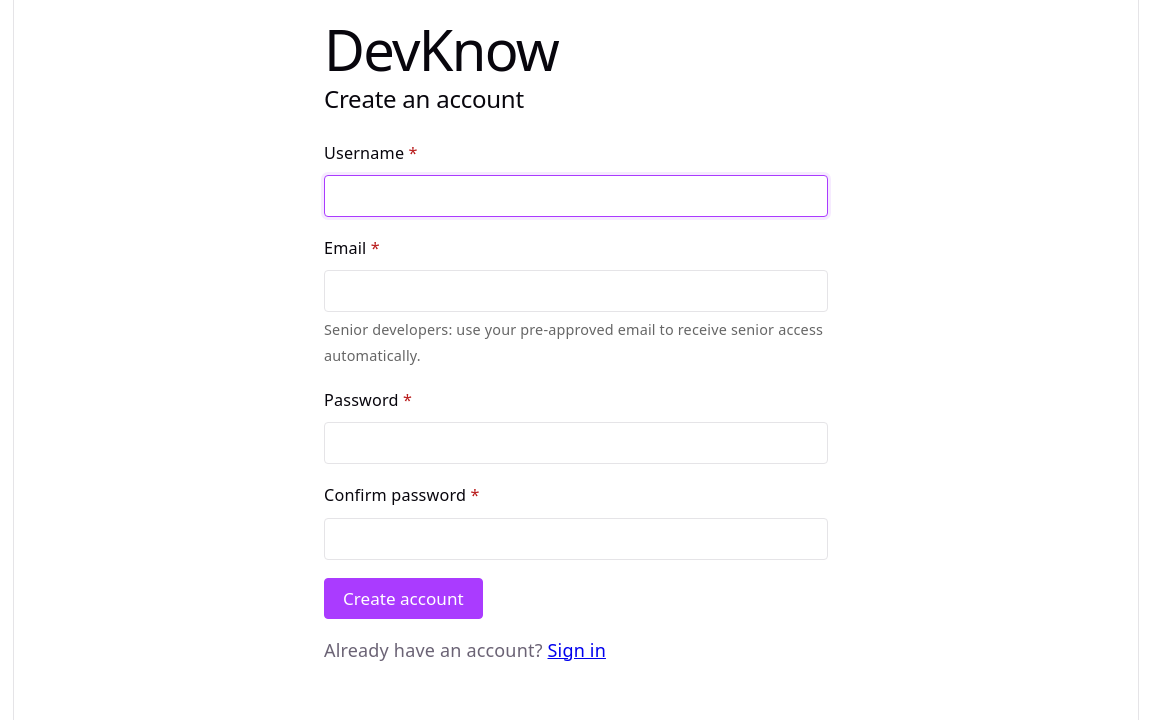
Test: RegisterPage › shows a generic error when the API fails without field errors
The width and height of the screenshot is (1152, 720).
Type "newuser" into the field labelled "Username". click: (576, 196)
box: top-left (324, 175), bottom-right (828, 217)
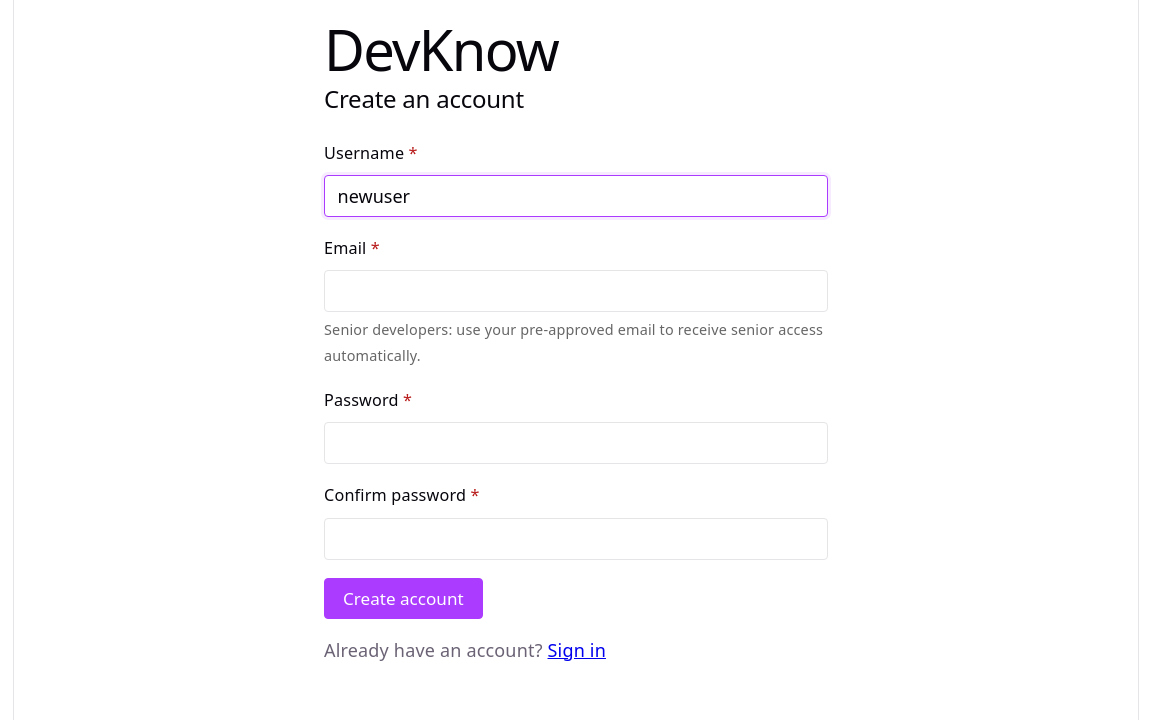
Type "new@example.com" into the field labelled "Email". click: (576, 291)
box: top-left (324, 270), bottom-right (828, 312)
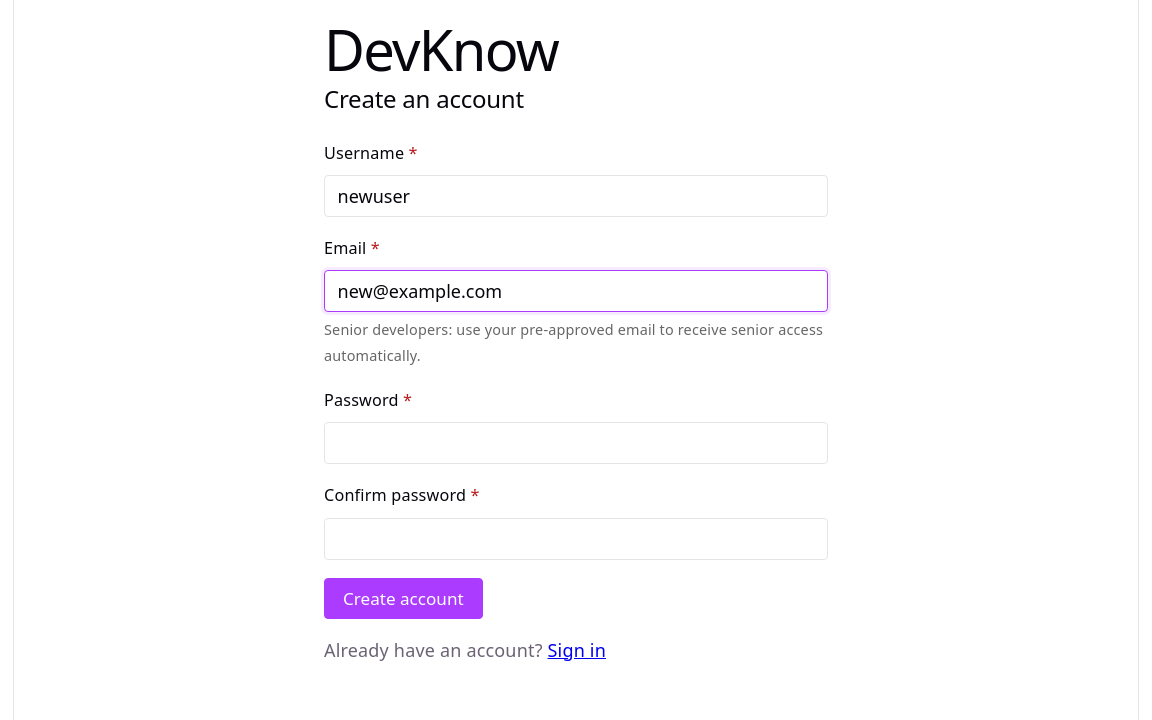
Type "securepass1" into the password field labelled "Password". click: (576, 443)
box: top-left (324, 422), bottom-right (828, 464)
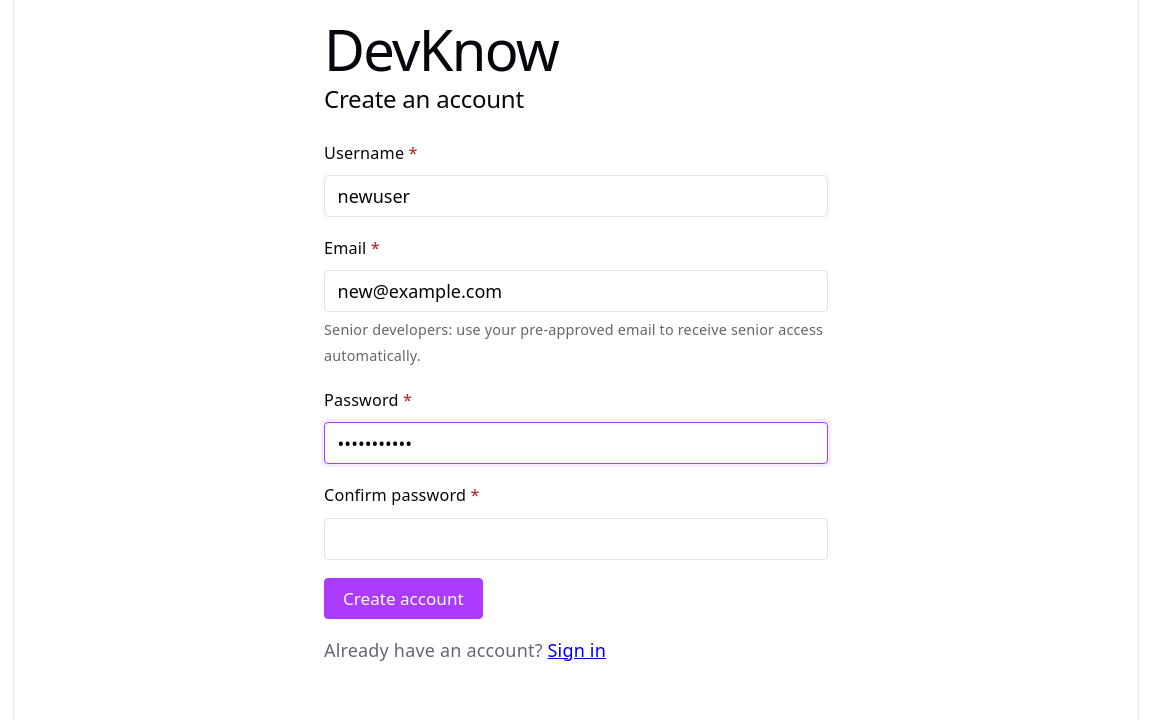
Type "securepass1" into the password field labelled "Confirm password". click: (576, 539)
box: top-left (324, 518), bottom-right (828, 560)
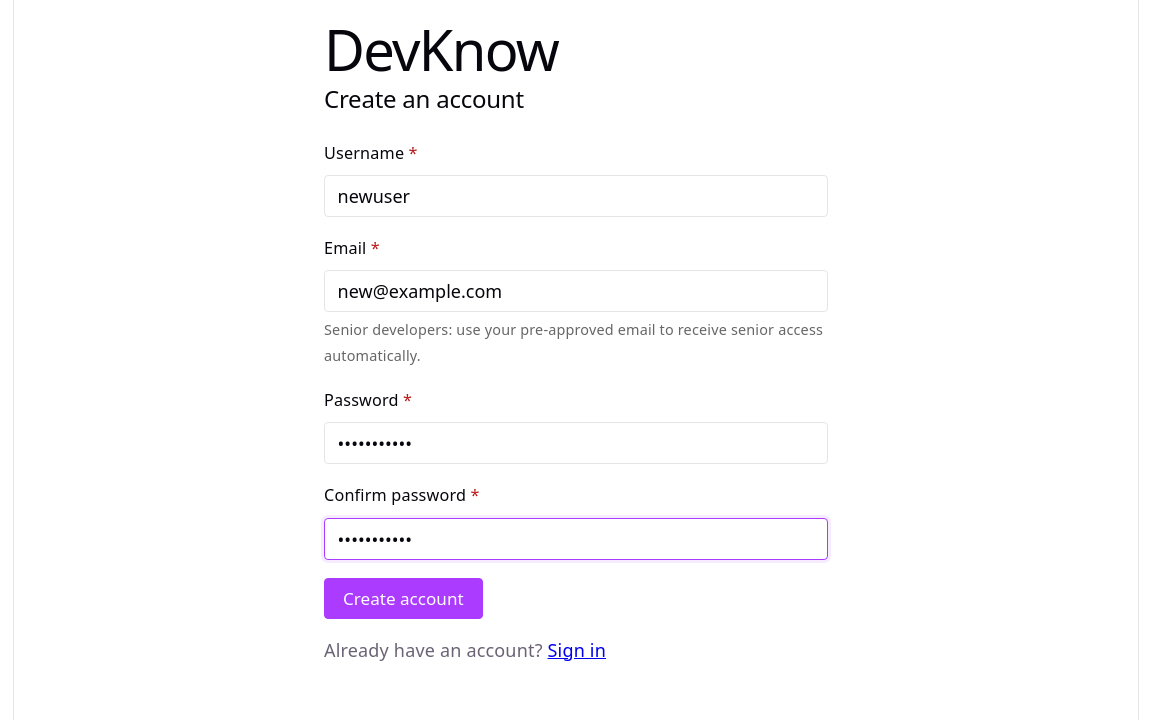
Click the button "Create account". click: (403, 598)
box: top-left (324, 578), bottom-right (483, 619)
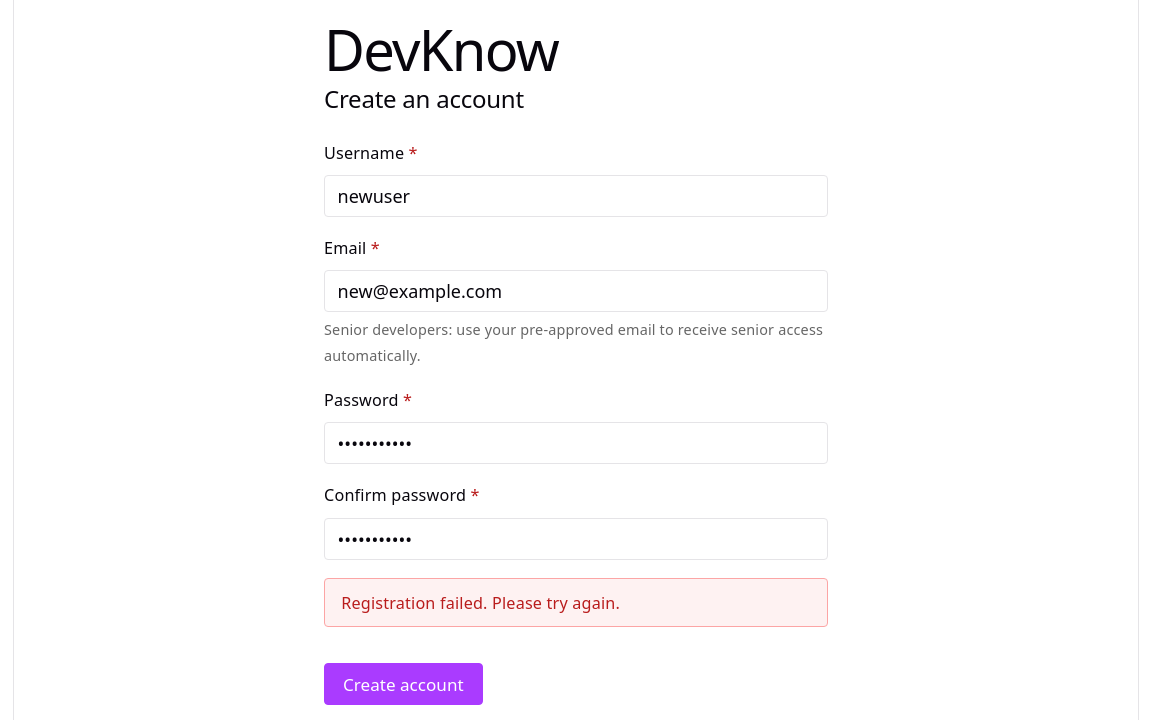
Check: the message reads "Registration failed. Please try again.", box top-left (341, 592), bottom-right (620, 614)
